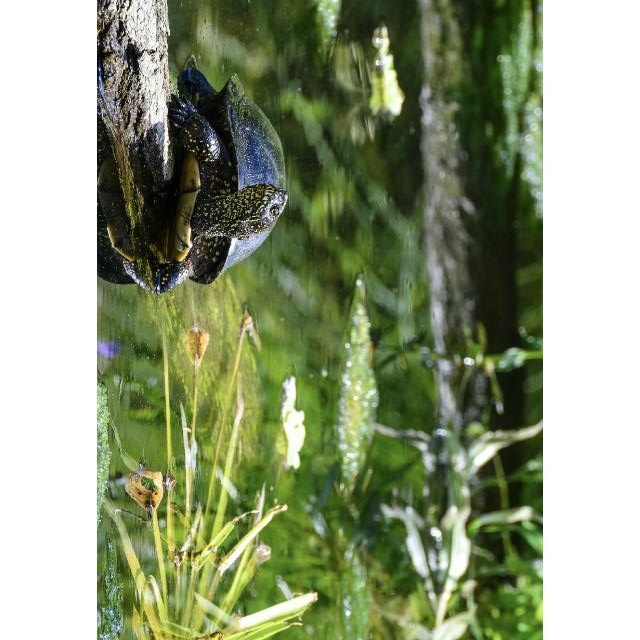turtle: (158, 72, 286, 294)
